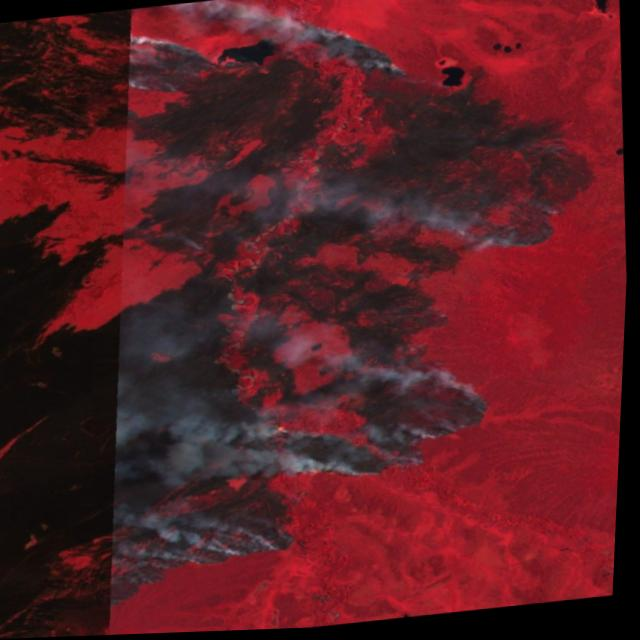fire: (69, 0, 622, 614)
